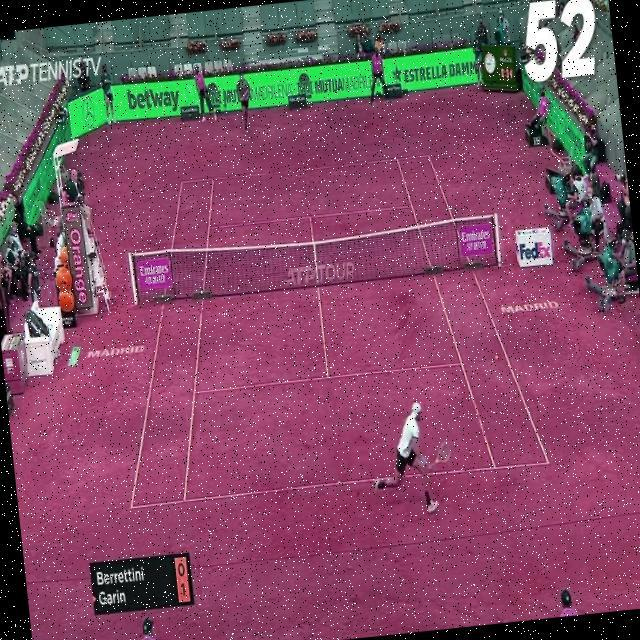court: (95, 145, 550, 508)
net: (127, 210, 503, 307)
player: (366, 398, 458, 518)
